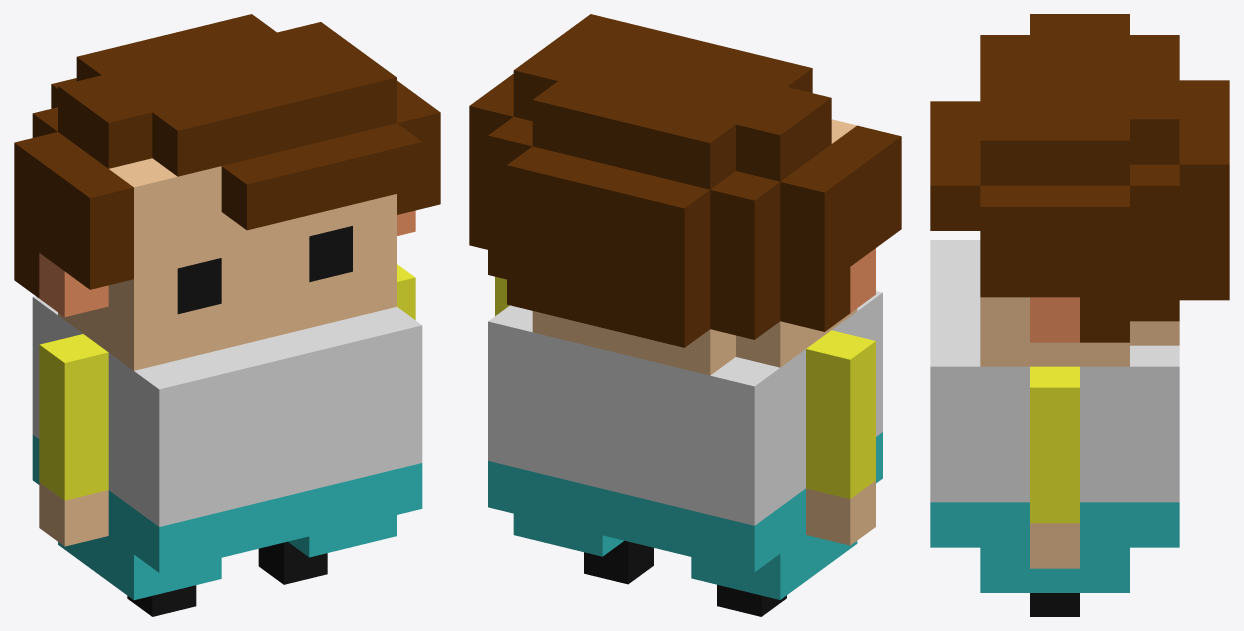
Rendered from chr_raver3.obj.
3 views of the same model, side by side, from view 1: azimuth 30°, elevation 25°; view 2: azimuth 150°, elevation 25°; view 3: azimuth 270°, elevation 25° (orthographic). The views are drawn at different scales.
Size of the model in its own units: 0.8 by 1.1 by 0.6.
Materials: 1 (1 with a texture image).
